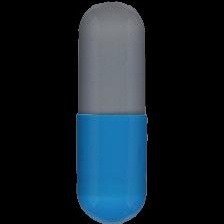52959-389: (0, 0, 224, 224)
